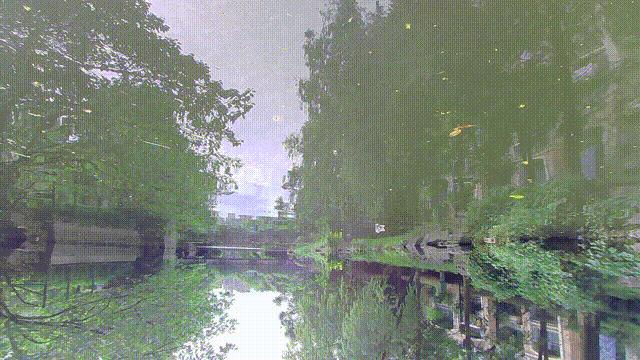Plastic: (374, 221, 386, 237), (509, 193, 525, 201), (481, 236, 497, 243)
